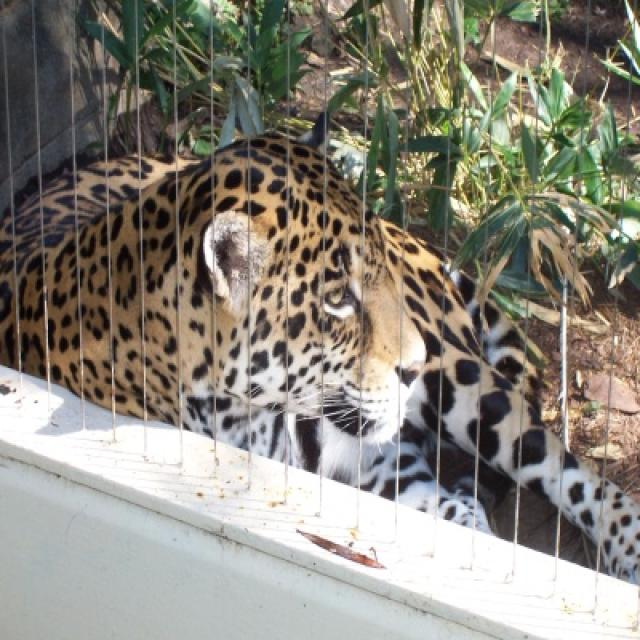Jaguar: (0, 134, 638, 589)
